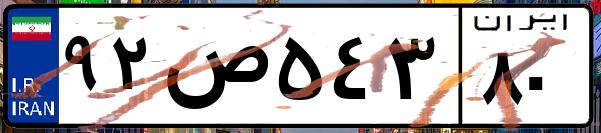0: (525, 38, 570, 115)
2: (110, 28, 158, 98)
3: (385, 28, 445, 110)
4: (330, 28, 385, 110)
5: (270, 28, 330, 110)
8: (475, 38, 525, 113)
9: (57, 26, 110, 100)
ص: (158, 20, 270, 120)
